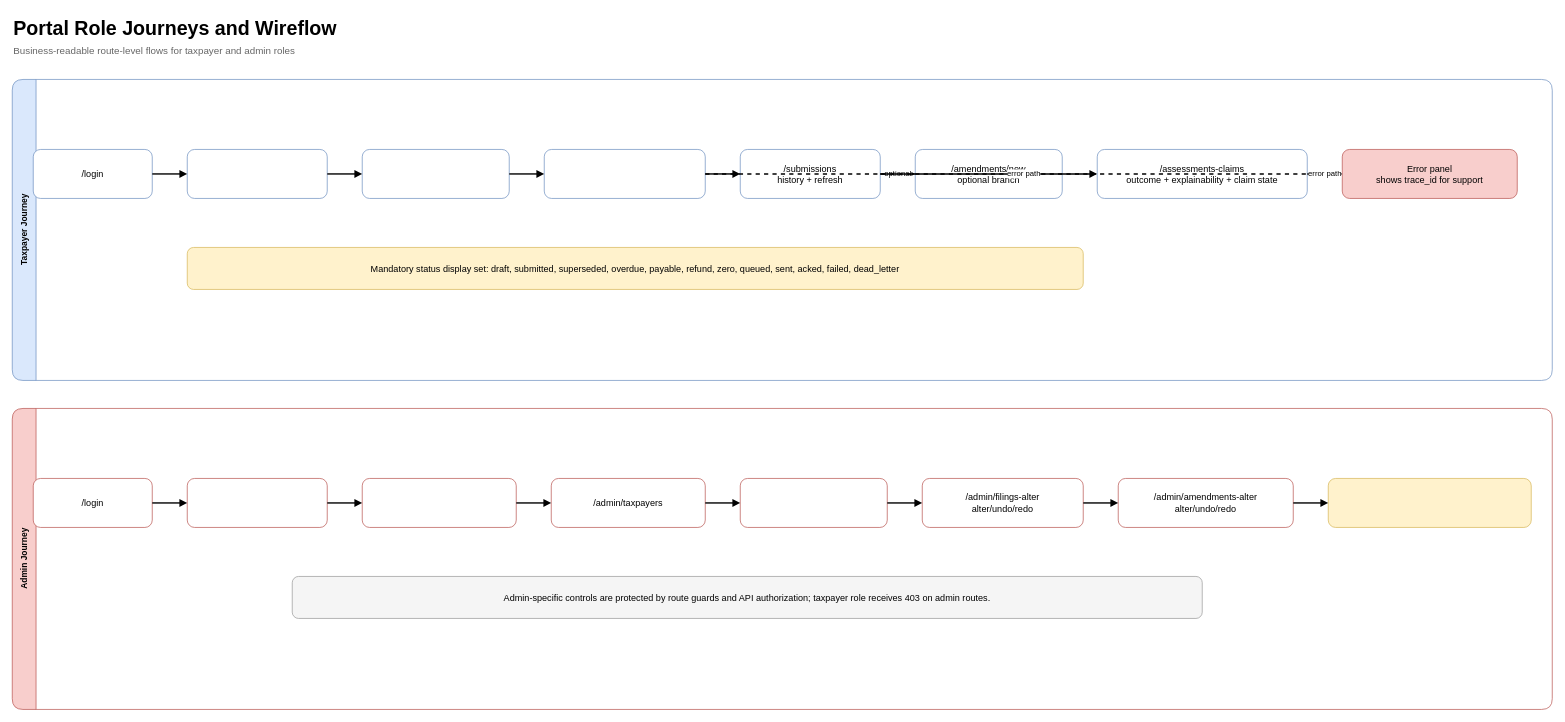
This 1565x722 diagram has some shape labels left out. Each missing label, with the centre of its shape:
"/admin/cadence" belongs at (813,502).
"/admin/taxpayers/new" belongs at (439,502).
"/filings/new draft -> validation -> submit" belongs at (624,173).
"/obligations due/overdue focus" belongs at (435,173).
"/overview admin visibility" belongs at (257,502).
"/overview status summary" belongs at (257,173).
"Conflict/Idempotency feedback 200 replay / 409 conflict + trace_id" belongs at (1429,502).
